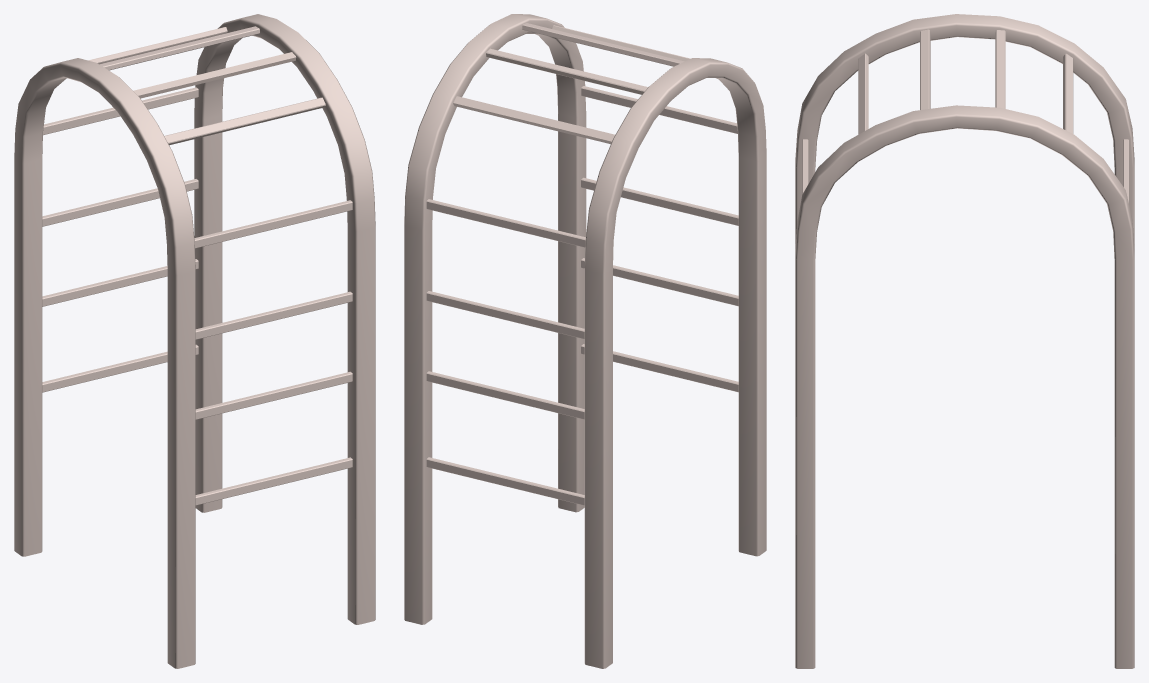
File: LatticeArch.fbx
The picture shows the model from 3 angles, left to right: view 1: azimuth 30°, elevation 25°; view 2: azimuth 150°, elevation 25°; view 3: azimuth 270°, elevation 25°; orthographic projection. The views are drawn at different scales.
Parts seen in each view (by area): view 1: LatticeArch; view 2: LatticeArch; view 3: LatticeArch.
Boxes of the visible parts, bbox=[...] form: LatticeArch: bbox=[14, 14, 375, 668]; LatticeArch: bbox=[404, 14, 766, 668]; LatticeArch: bbox=[795, 14, 1134, 668].
Bounding box in the file's own units: 1.27 × 3.22 × 1.79.
1 material, 1 textured.
